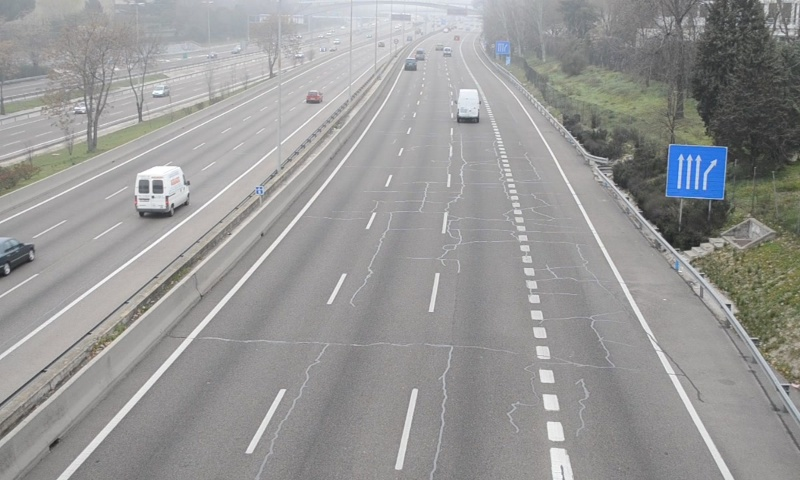van: (456, 88, 481, 124)
